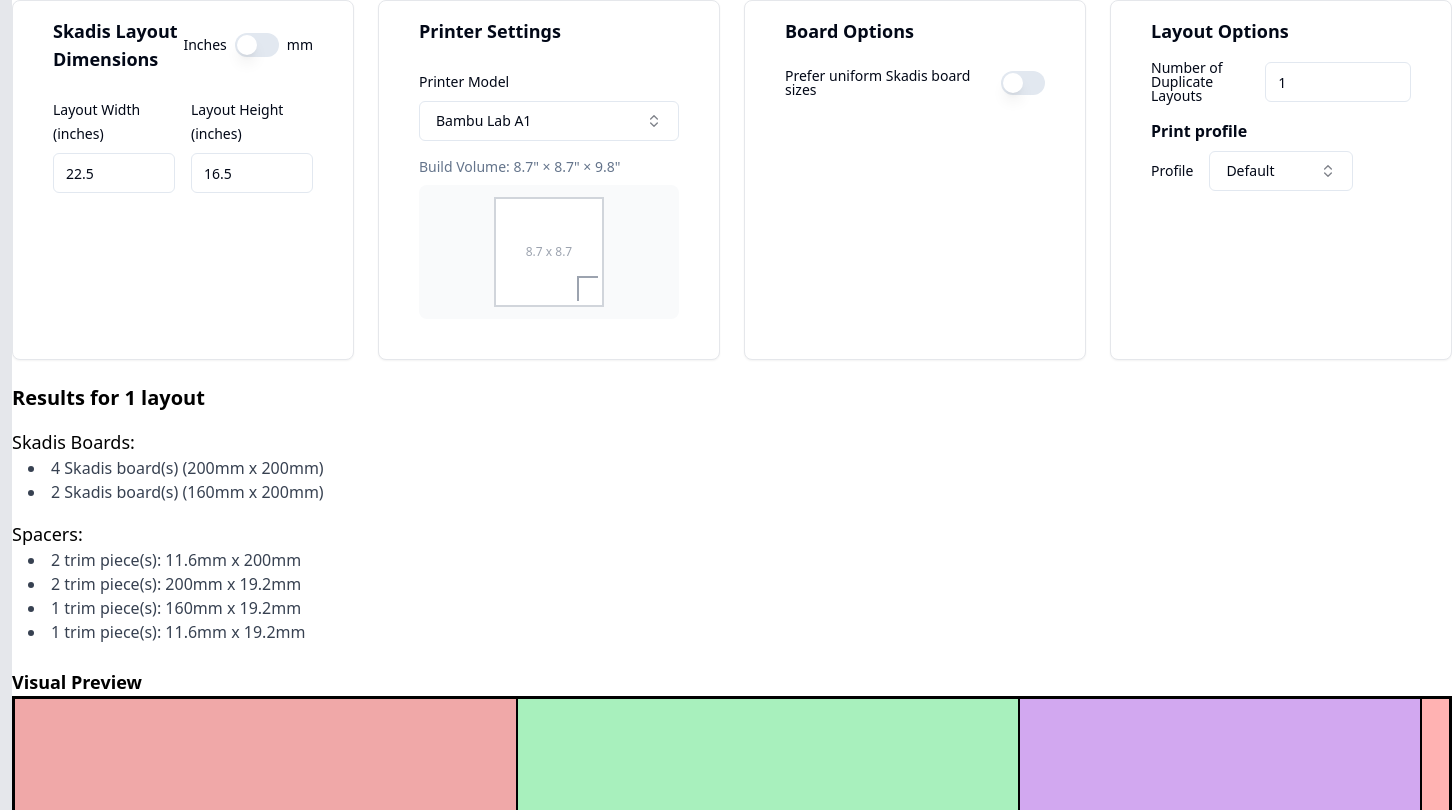
Test: GridfinityCalculator › should toggle between inches and millimeters
The image size is (1452, 810).
Expected: the text "Inches" is shown, x1=183 y1=38 x2=227 y2=52
Click the switch with id "unit-toggle". click: x=257, y=45
box: x1=235 y1=33 x2=279 y2=57
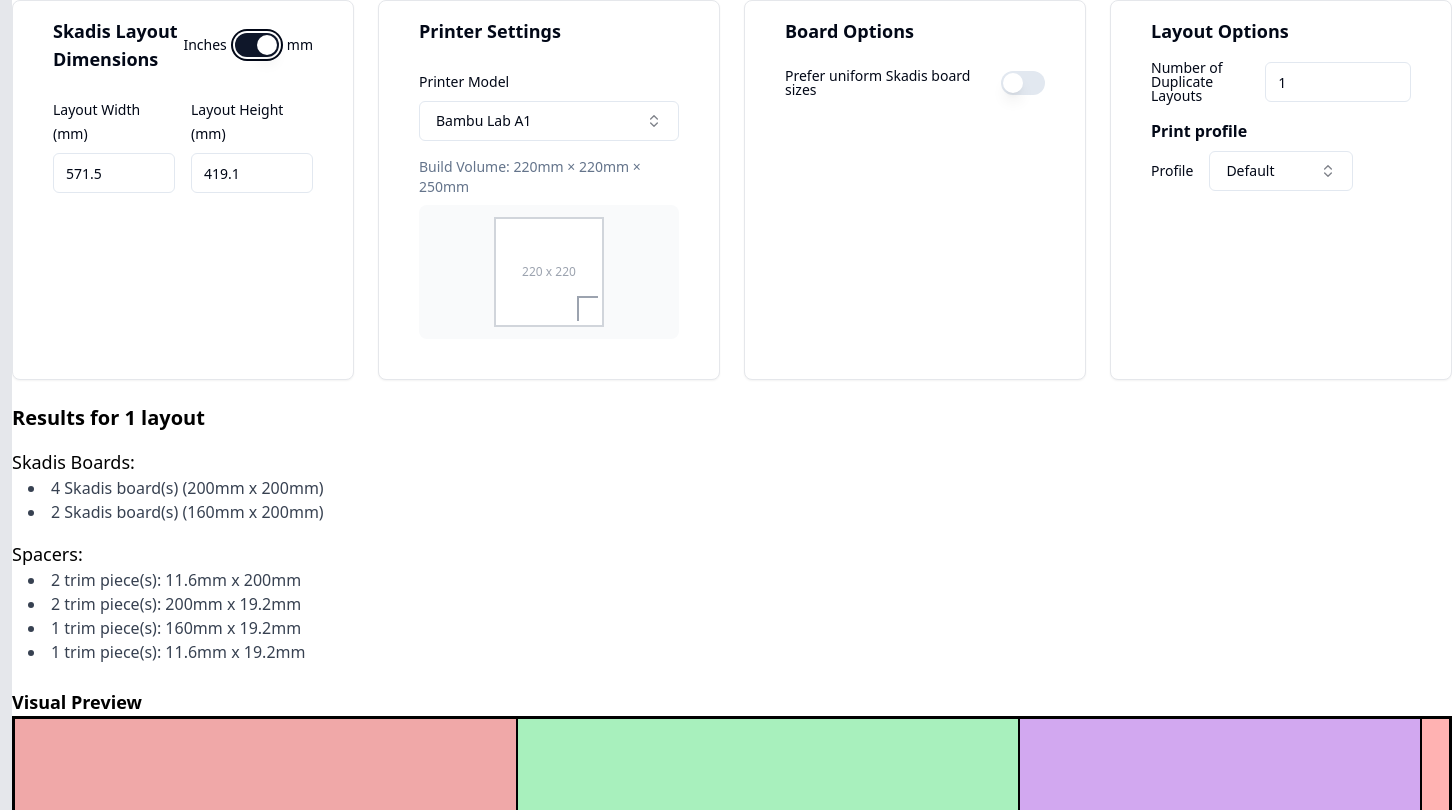
Expected: the text "Layout Width (mm)" is shown, x1=53 y1=100 x2=140 y2=143
